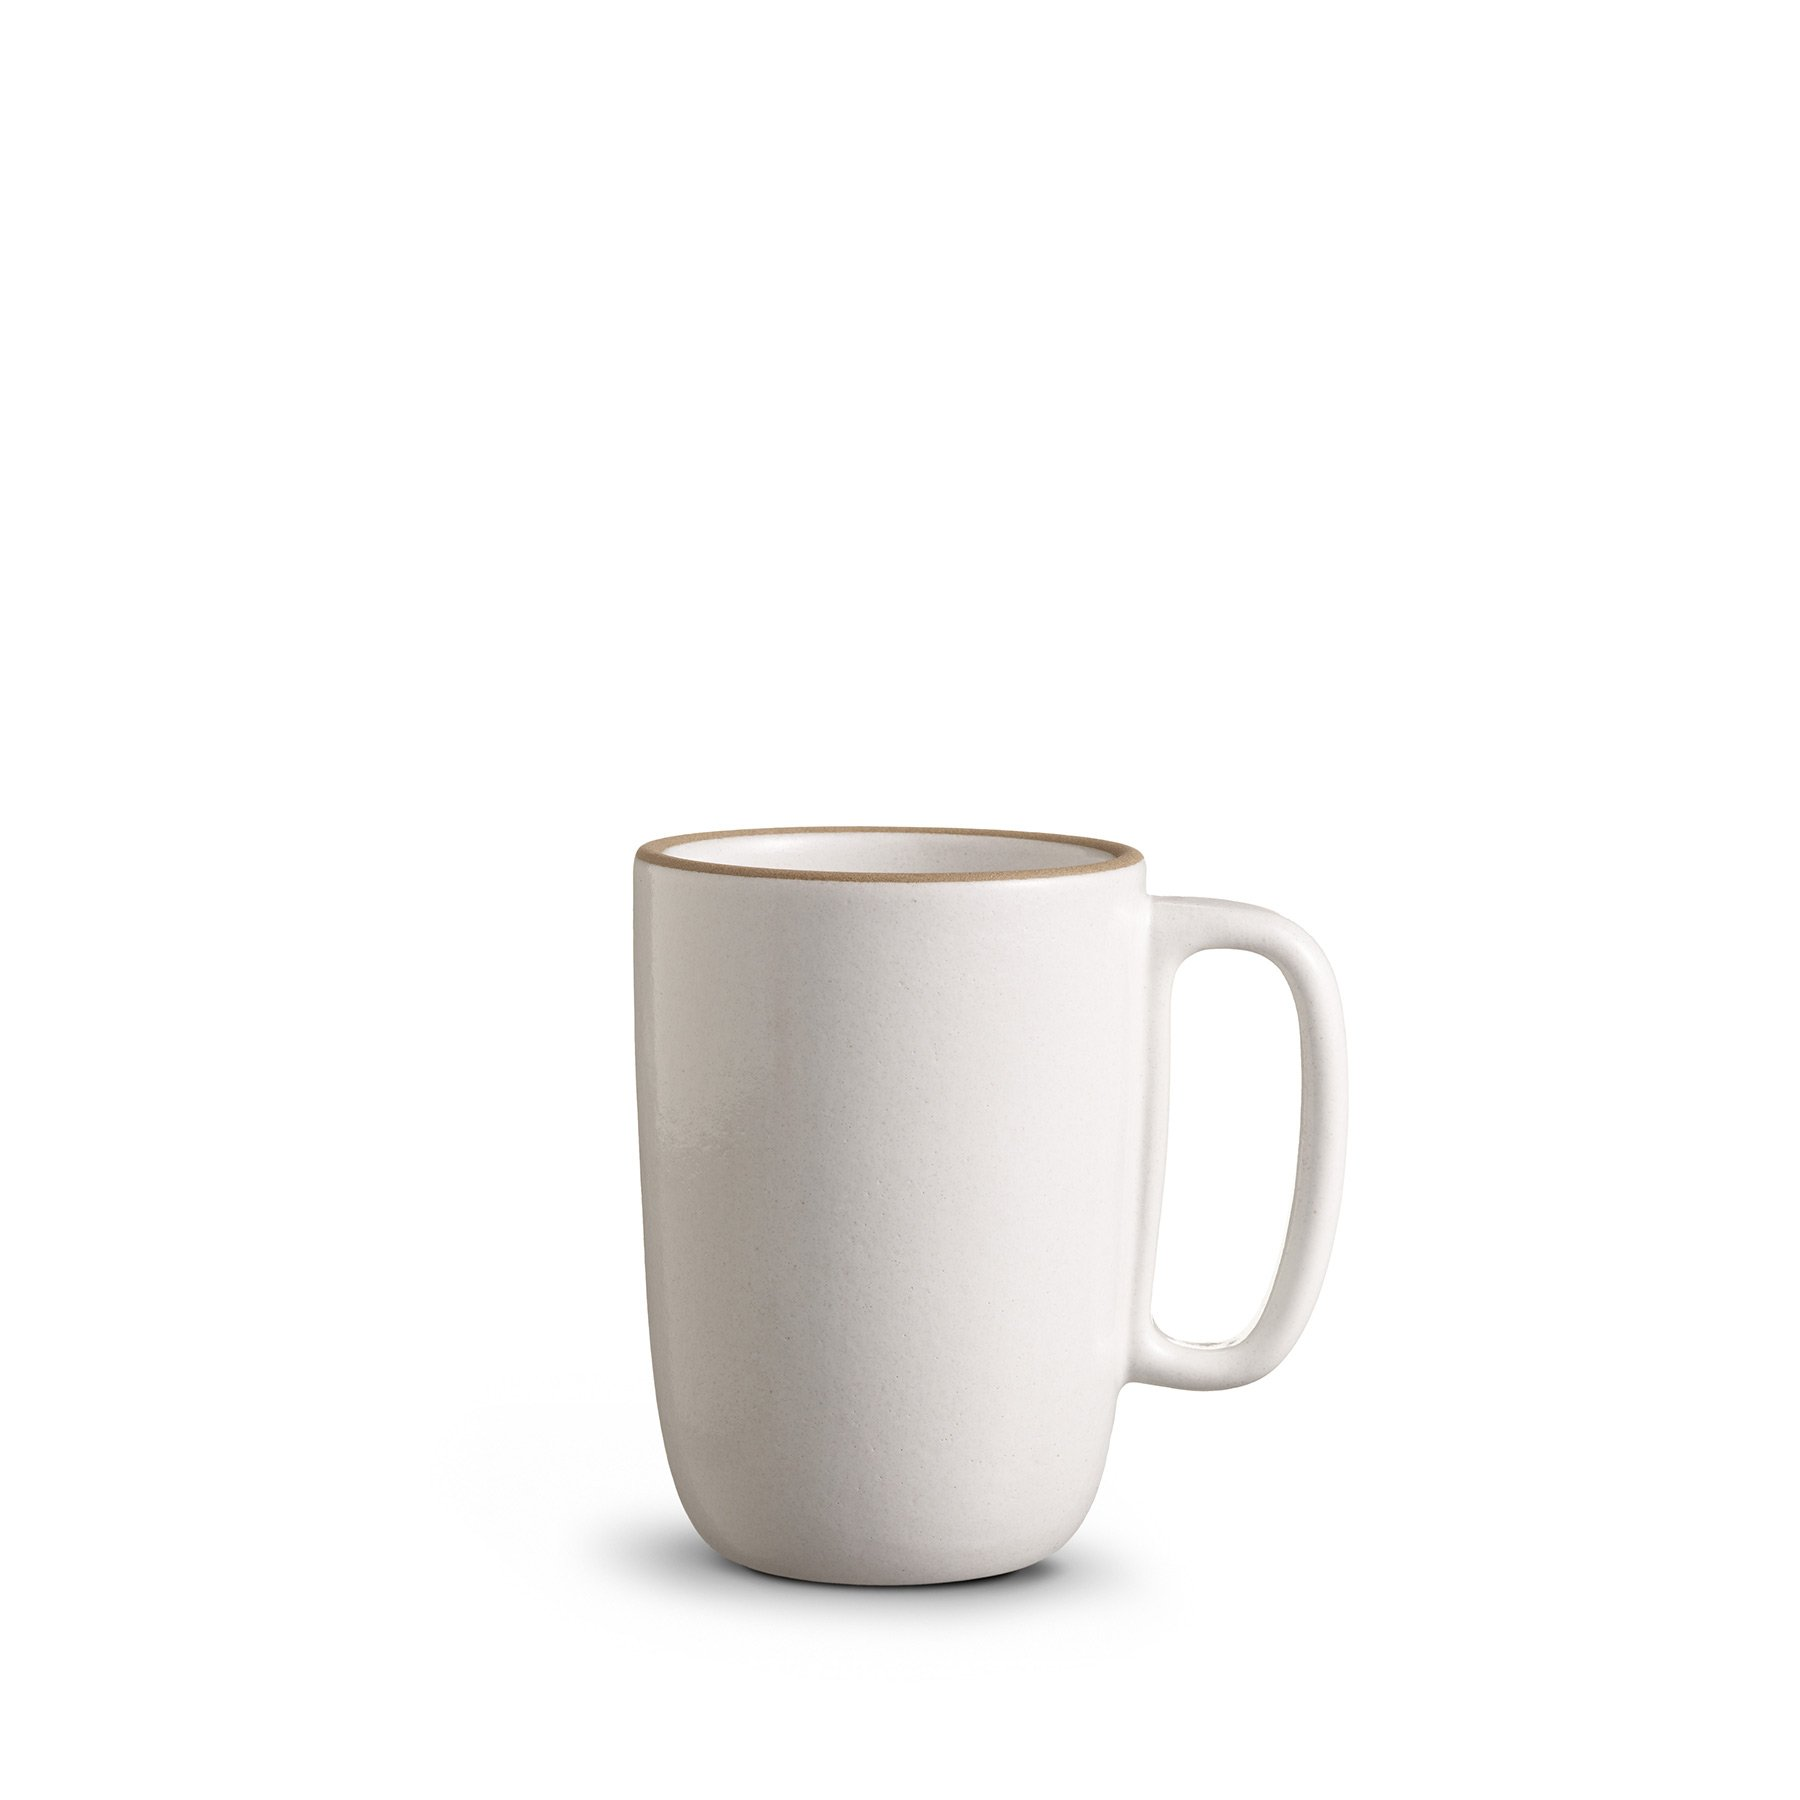gelas: (529, 752, 1385, 1650)
